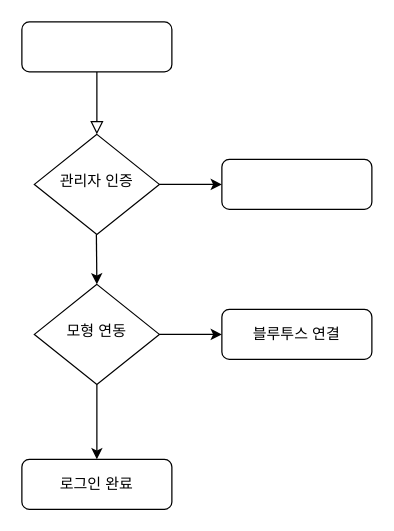
Image size: 394x531. Some labels were removed from this diagram. Here are the shapes that lost their labels. From the top down, the centre of each, then its label:
At pixel 96 46: "로그인 과정".
At pixel 296 183: "QR code 인식".
